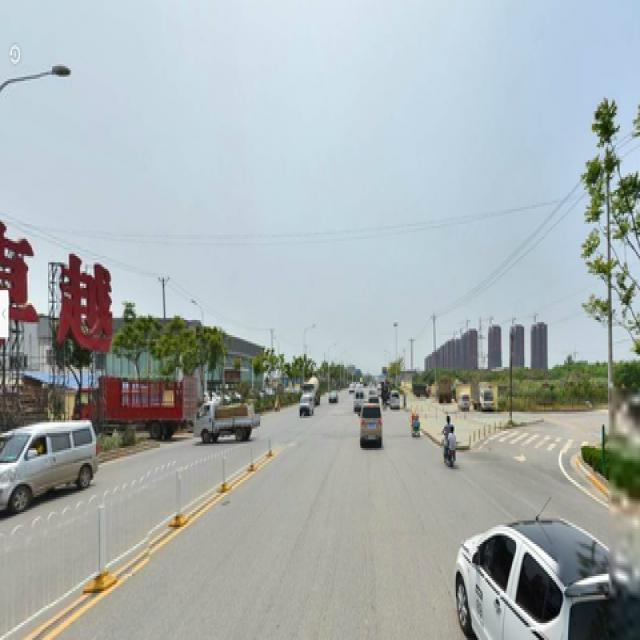koel: (580, 115, 637, 344), (120, 320, 145, 414)
